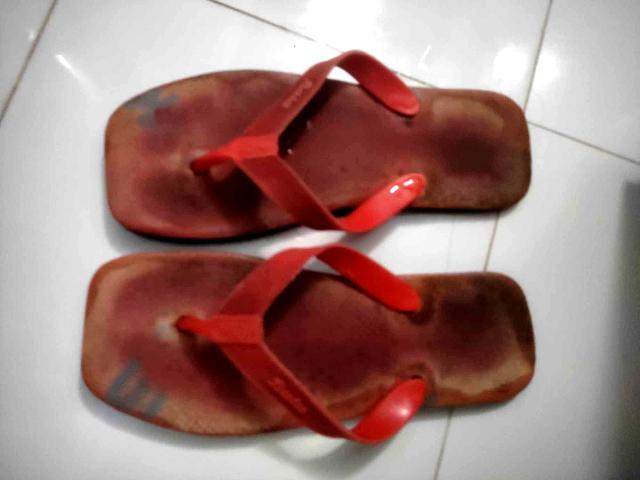sandal: (62, 229, 539, 433), (90, 63, 546, 262)
